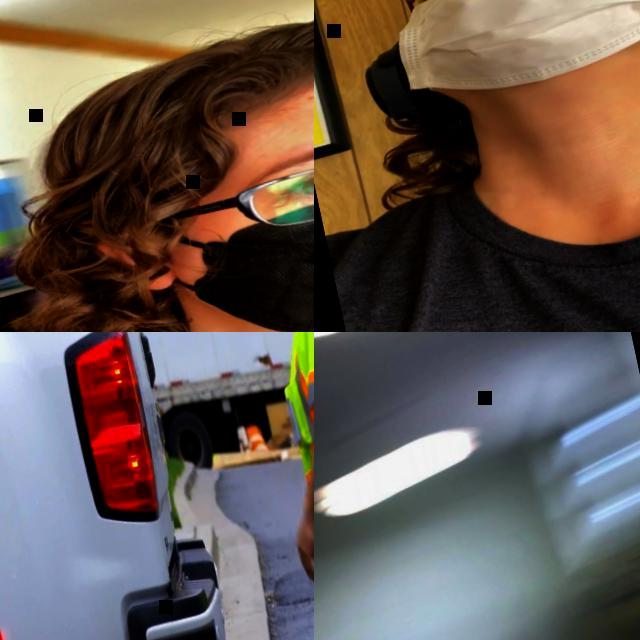mask: (382, 0, 640, 110), (156, 156, 314, 332)
no_helmet: (28, 0, 314, 192)
no_vest: (322, 79, 640, 332)
person: (314, 0, 640, 332), (0, 0, 314, 332), (217, 332, 314, 640)
safety_cone: (246, 422, 268, 451)
vehicle: (0, 332, 307, 640)
vest: (253, 332, 314, 606)
